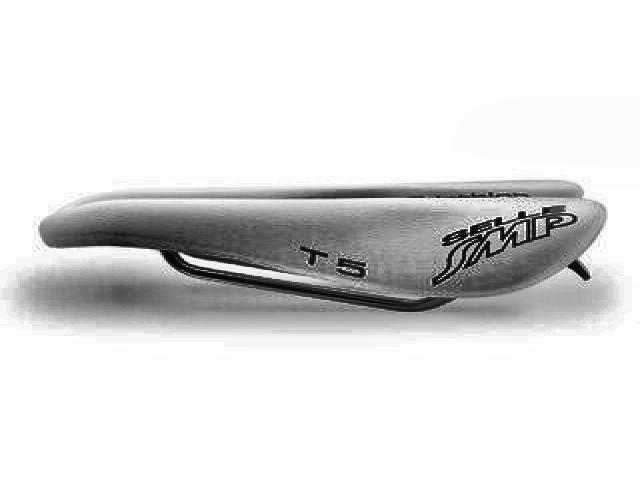saddle: (37, 174, 619, 319)
